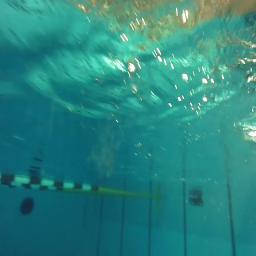Full: (188, 188, 204, 207)
